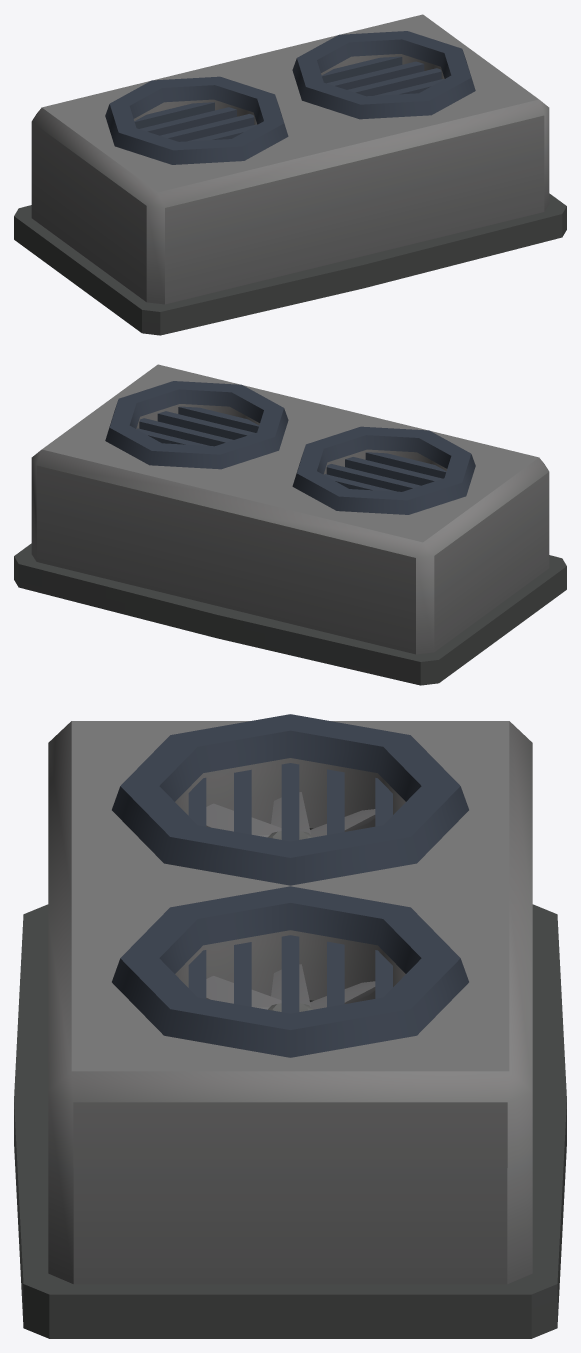
File: Vent_3_A.fbx
3 views of the same model, one above another, from view 1: azimuth 30°, elevation 25°; view 2: azimuth 150°, elevation 25°; view 3: azimuth 270°, elevation 25° (orthographic). The views are drawn at different scales.
Parts seen in each view (by area): view 1: Vent_3_A; view 2: Vent_3_A; view 3: Vent_3_A, TFan_A.001, TFan_A.
Part boxes in pixels (box(x1,y1,x2,y2)): Vent_3_A: box(14, 14, 566, 335); Vent_3_A: box(14, 364, 566, 685); Vent_3_A: box(14, 714, 566, 1338); TFan_A.001: box(206, 792, 375, 839); TFan_A: box(206, 964, 375, 1011).
Bounding box in the file's own units: 3.23 × 1.05 × 1.93.
